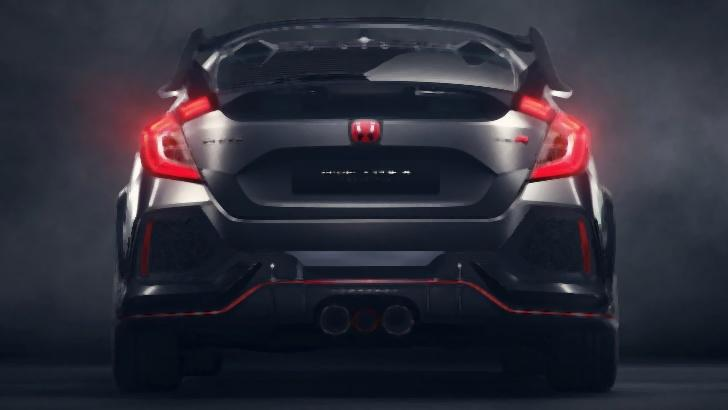Car boot: (175, 73, 556, 227)
Rear bumper: (108, 186, 624, 348)
Rear light - -L-: (133, 90, 218, 188)
Rear light - -R-: (508, 88, 596, 190)
